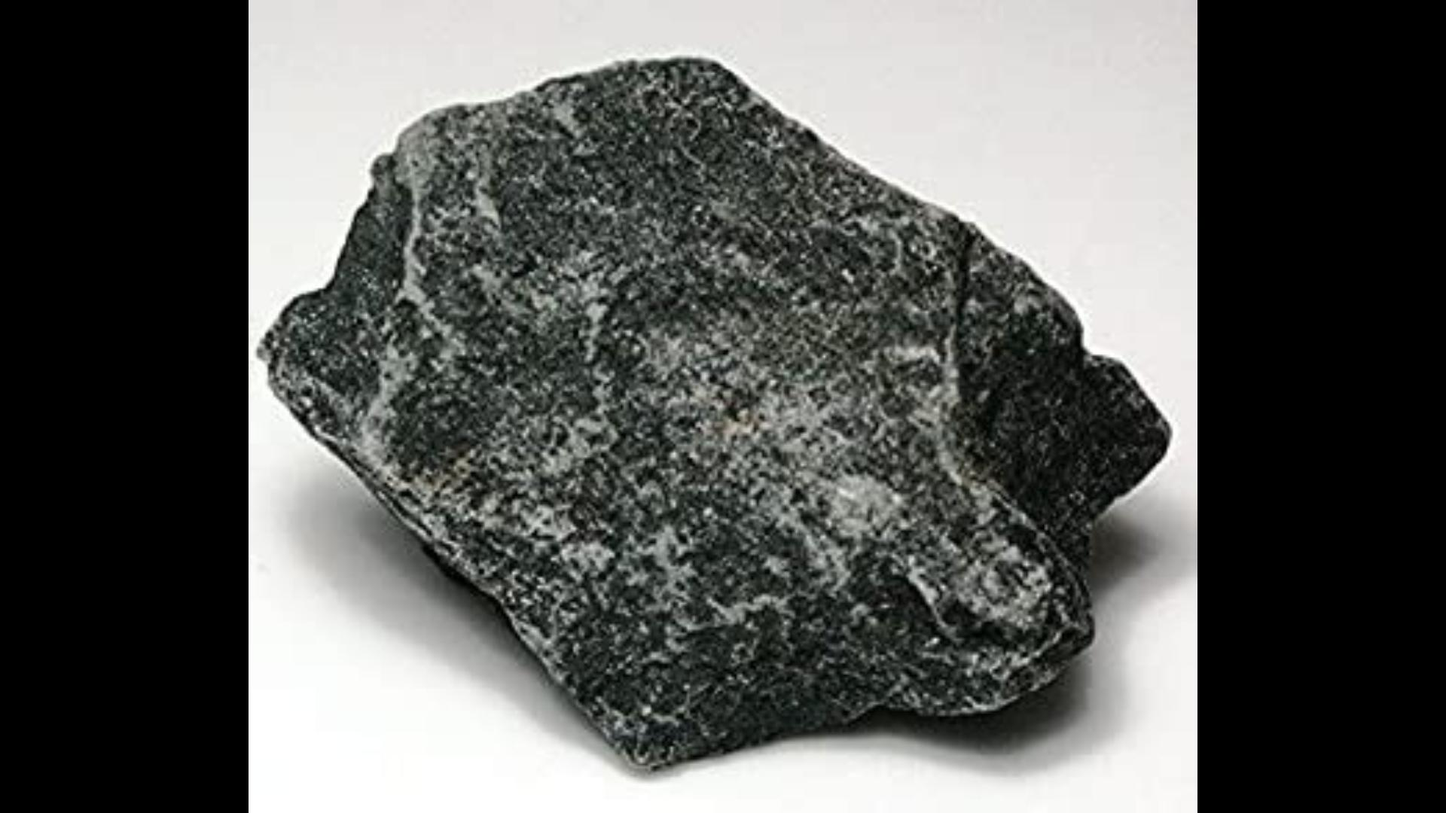rock: (260, 58, 1167, 763)
